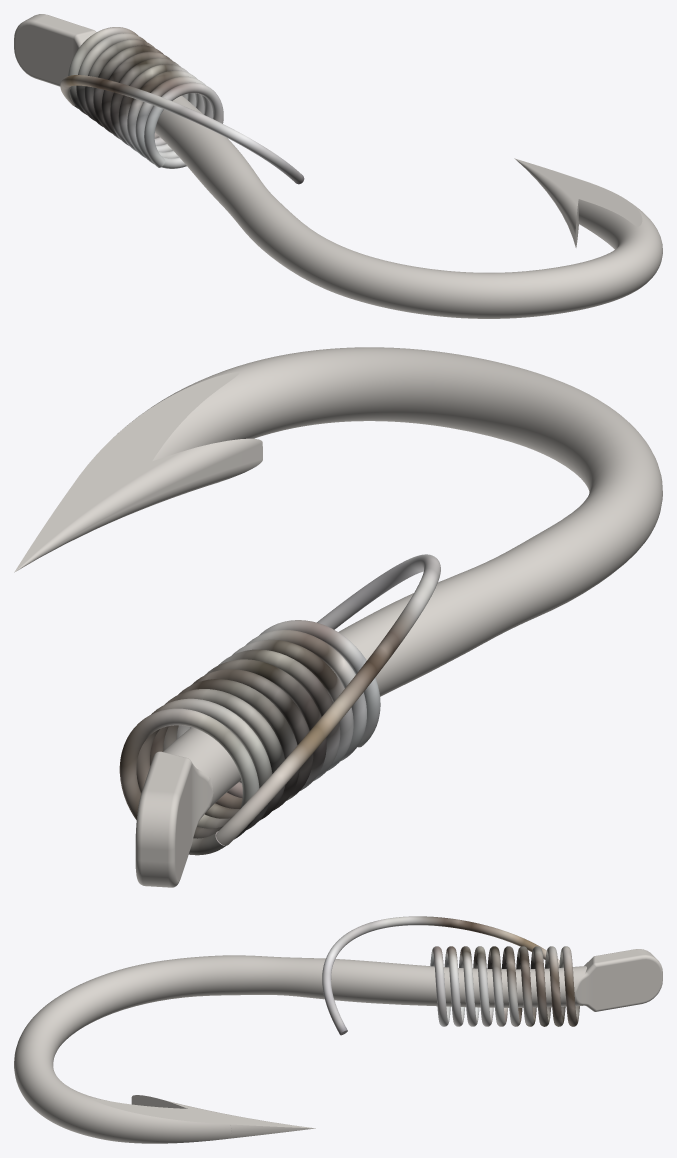
Rendered from just_hook.fbx.
3 views of the same model, one above another, from view 1: azimuth 30°, elevation 25°; view 2: azimuth 150°, elevation 25°; view 3: azimuth 270°, elevation 25° (orthographic). The views are drawn at different scales.
Visible parts, largest first — view 1: udica.005, udica.009, udica.011; view 2: udica.005, udica.009, udica.011; view 3: udica.005, udica.009, udica.011.
Boxes of the visible parts, x1,y1,x2,y2 form: udica.005: [14, 14, 662, 318]; udica.009: [68, 27, 223, 168]; udica.011: [60, 75, 304, 184]; udica.005: [14, 347, 662, 887]; udica.009: [119, 620, 380, 855]; udica.011: [216, 554, 440, 845]; udica.005: [14, 949, 662, 1143]; udica.009: [430, 946, 579, 1026]; udica.011: [322, 916, 559, 1035].
Size of the model in its own units: 1897 by 575 by 3620.
